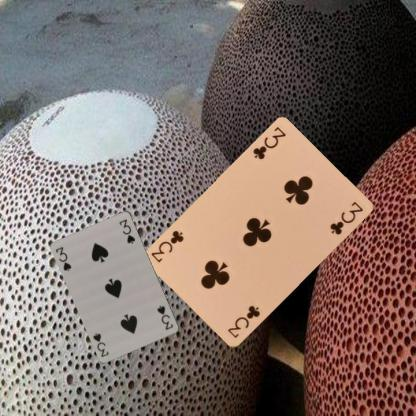3c: (250, 124, 288, 161), (225, 302, 261, 340)
3s: (53, 245, 73, 272), (155, 303, 174, 331)
